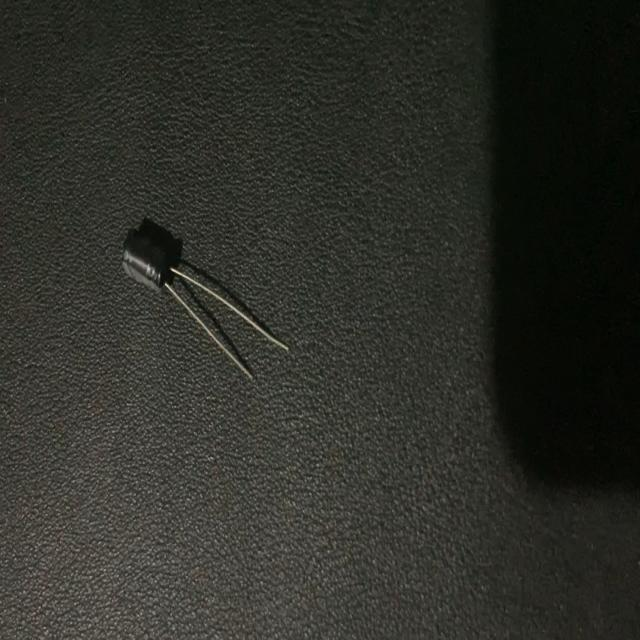capacitor: (121, 230, 289, 380)
